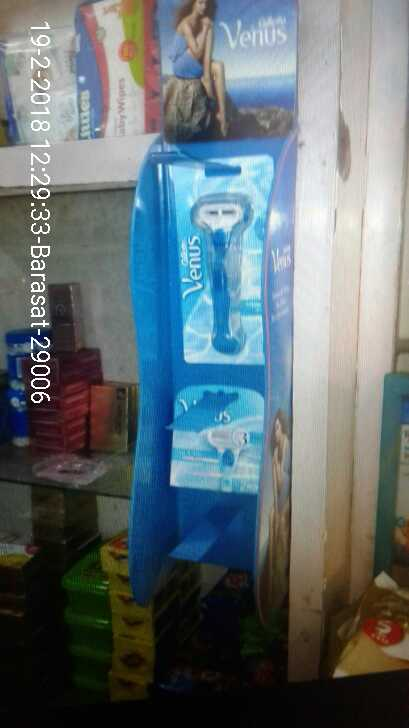venus: (169, 166, 267, 368), (164, 379, 264, 500)
